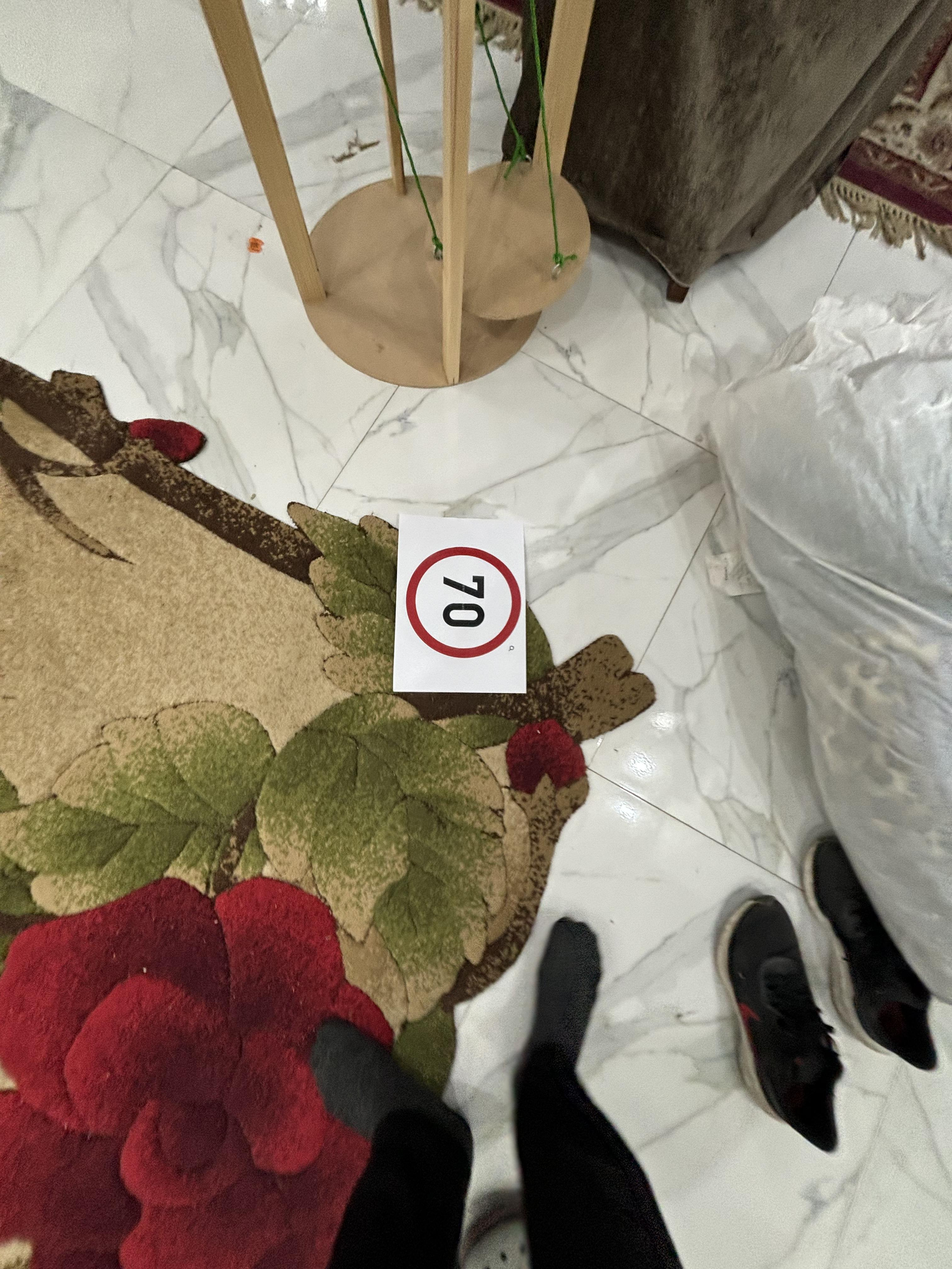70-Speed: (405, 542, 526, 664)
